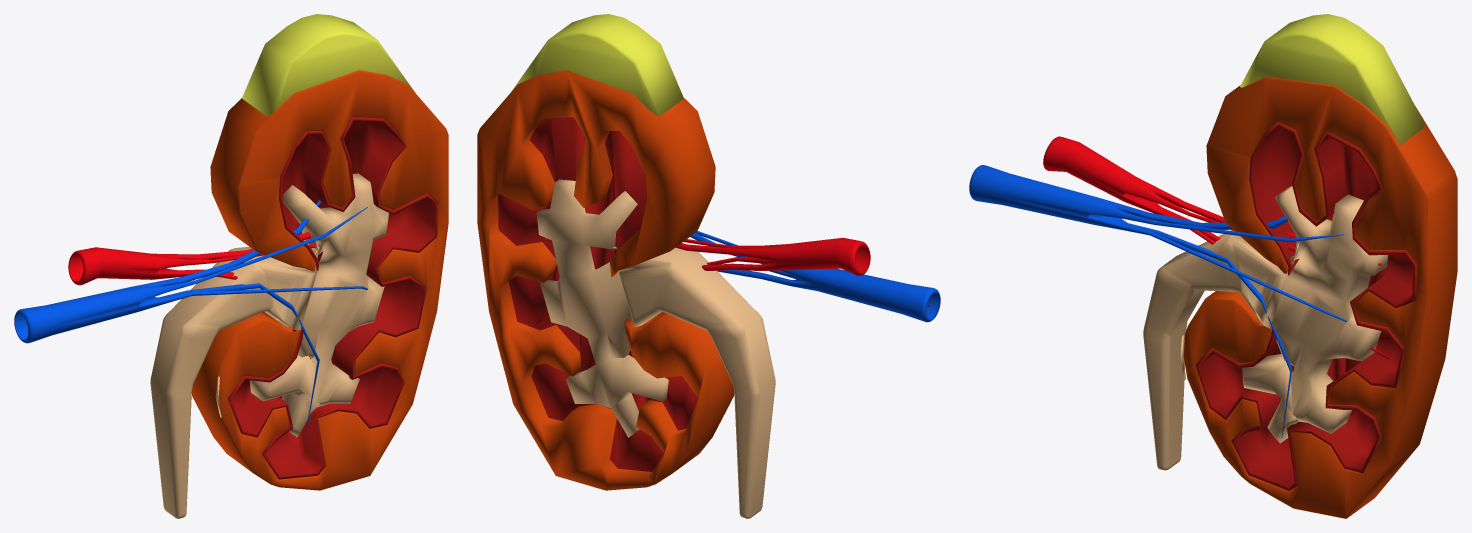
The model's file is ureter.glb.
3 renders of one model, left to right at view 1: azimuth 30°, elevation 25°; view 2: azimuth 150°, elevation 25°; view 3: azimuth 330°, elevation 25°, orthographic. The views are drawn at different scales.
Visible parts, largest first — view 1: Plane.002, Plane, Plane.001, Cube, Cylinder, Cylinder.001; view 2: Plane.002, Plane, Plane.001, Cube, Cylinder, Cylinder.001; view 3: Plane.002, Plane, Plane.001, Cube, Cylinder, Cylinder.001.
Boxes of the visible parts, x1,y1,x2,y2 form: Plane.002: [191, 70, 448, 490]; Plane: [150, 173, 388, 518]; Plane.001: [228, 117, 437, 479]; Cube: [242, 14, 414, 116]; Cylinder: [14, 200, 367, 429]; Cylinder.001: [68, 232, 319, 359]; Plane.002: [477, 70, 734, 490]; Plane: [536, 179, 775, 518]; Plane.001: [498, 117, 697, 471]; Cube: [510, 14, 683, 116]; Cylinder: [690, 231, 940, 322]; Cylinder.001: [536, 237, 870, 323]; Plane.002: [1183, 76, 1457, 518]; Plane: [1143, 185, 1388, 470]; Plane.001: [1195, 122, 1416, 491]; Cube: [1240, 14, 1425, 144]; Cylinder: [969, 165, 1376, 437]; Cylinder.001: [1043, 136, 1389, 359].
Bounding box in the file's own units: 28.43 × 28.79 × 4.31.
